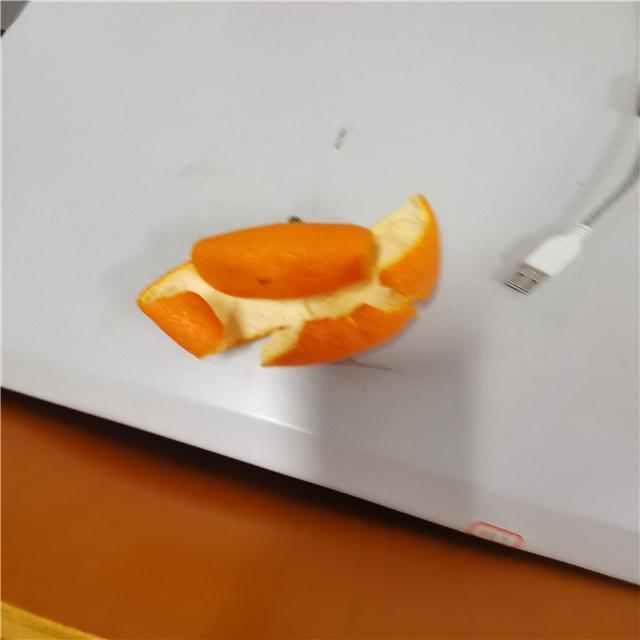orange-peel: (135, 192, 445, 370)
